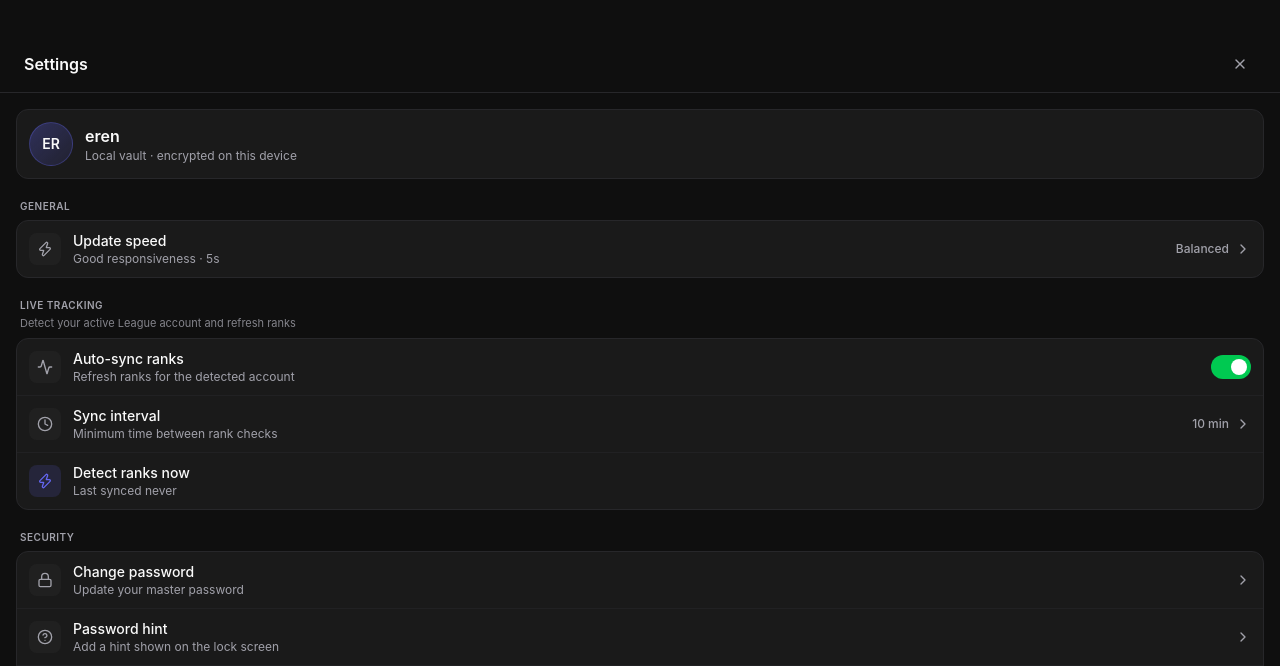
it: SettingsModal — security drill-ins › drills into the password change form and exposes Current/New/Confirm fields
Step 1. Click the button "Change password Update your master password" → (45, 580), box [17, 552, 1263, 608]
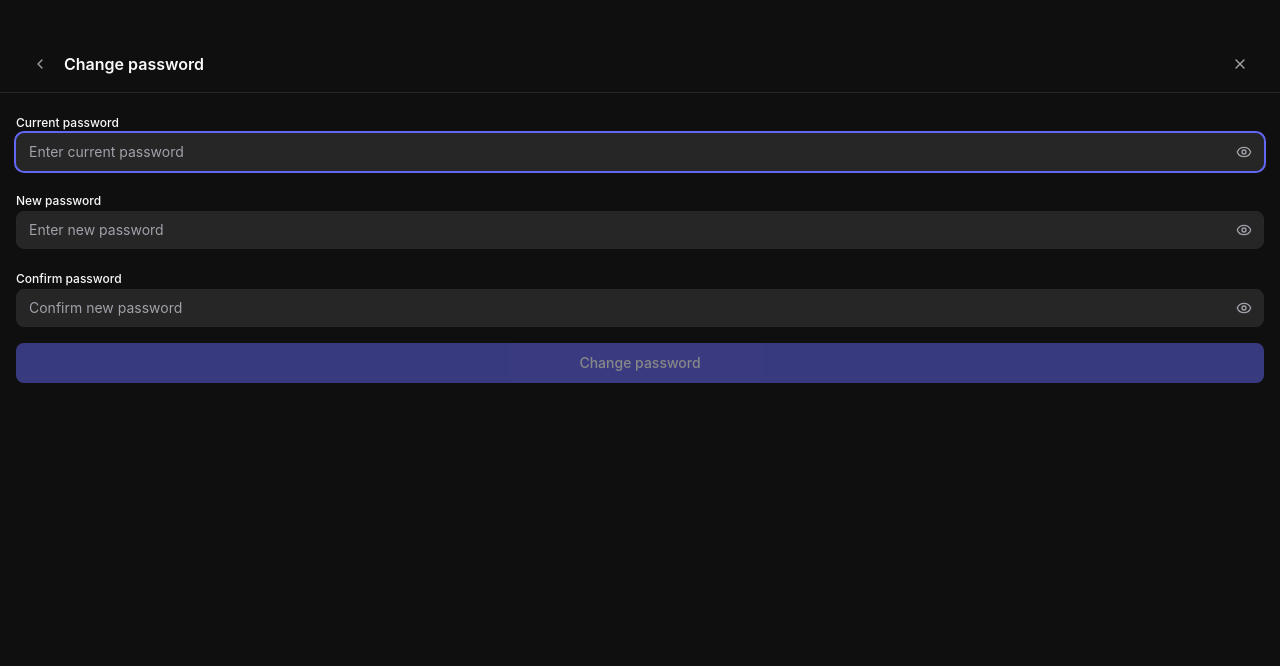
Result: the password field with placeholder "Enter current password" is shown at [16, 133, 1264, 171]
Result: the password field with placeholder "Enter new password" is shown at [16, 211, 1264, 249]
Result: the password field with placeholder "Confirm new password" is shown at [16, 289, 1264, 327]
